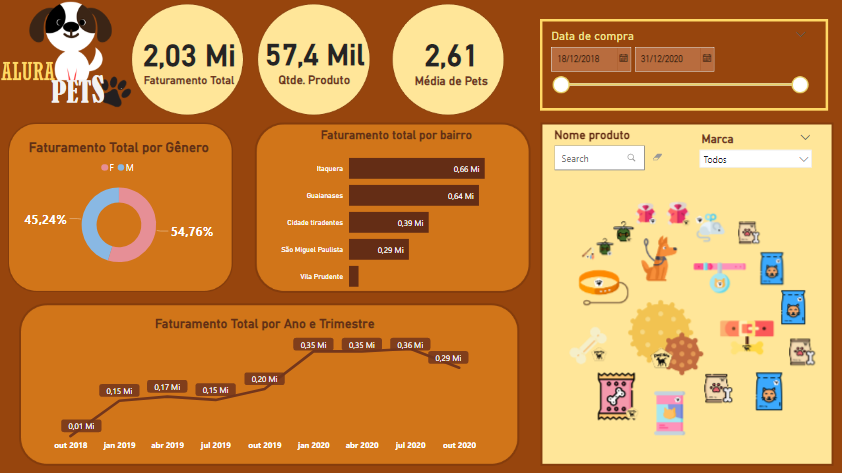

This screenshot's page, from the dashboard's own definition file:
{"tool":"powerbi","page":{"name":"Página 1","canvas":[1280,720],"ordinal":0},"visuals":[{"type":"card","fields":{"Values":["Sum(Vendas.Quantidade)"]},"box":[327.4,9.6,301.4,158.9],"z":0},{"type":"card","fields":{"Values":["Vendas.Faturamento Total"]},"box":[194.5,38.4,187.7,101.4],"z":1000},{"type":"card","fields":{"Values":["Avg(Clientes.Pets)"]},"box":[534.2,9.6,301.4,158.9],"z":2000},{"type":"donutChart","fields":{"Category":["Clientes.Gênero"],"Y":["Vendas.Faturamento Total"]},"box":[23.3,211,317.8,208.2],"z":3000},{"type":"barChart","title":"Faturamento total por bairro","fields":{"Category":["Clientes.Bairro"],"Y":["Vendas.Faturamento Total"]},"box":[421.9,194.5,361.6,263],"z":4000},{"type":"slicer","fields":{"Values":["Lista Produtos.Marca"]},"box":[1052.1,194.5,190.4,72.6],"z":5000},{"type":"slicer","fields":{"Values":["Vendas.Data de compra"]},"box":[825,39.7,409.6,151],"z":6000},{"type":"lineChart","fields":{"Y":["Vendas.Faturamento Total"],"Category":["Vendas.Data de compra.Variation.Hierarquia de datas.Ano","Vendas.Data de compra.Variation.Hierarquia de datas.Trimestre","Vendas.Data de compra.Variation.Hierarquia de datas.Mês","Vendas.Data de compra.Variation.Hierarquia de datas.Dia"]},"box":[76.7,478.1,650.7,213.7],"z":7000},{"type":"ImageGrid_FC5183B9_926C_45E0_B5F7_0CE9EAF1DA9B","fields":{"ImageURL":["Lista Produtos.Url img"]},"box":[823.3,267.1,456.2,431.5],"z":8000},{"type":"textFilter25A4896A83E0487089E2B90C9AE57C8A","fields":{"field":["Lista Produtos.Nome produto"]},"box":[835.6,194.5,184.9,72.6],"z":9000}]}

Visuals, with their boxes in screenshot pixels (x1, y1, x2, y2), scaled from the page's 1280x720 canvas onto the 842x473 screenshot:
card - Sum(Vendas.Quantidade): [215, 6, 414, 111]
card - Vendas.Faturamento Total: [128, 25, 251, 92]
card - Avg(Clientes.Pets): [351, 6, 550, 111]
donutChart - Clientes.Gênero x Vendas.Faturamento Total: [15, 139, 224, 275]
"Faturamento total por bairro" barChart: [278, 128, 515, 301]
slicer - Lista Produtos.Marca: [692, 128, 817, 175]
slicer - Vendas.Data de compra: [543, 26, 812, 125]
lineChart - Vendas.Faturamento Total x Vendas.Data de compra.Variation.Hierarquia de datas.Ano: [50, 314, 478, 454]
ImageGrid_FC5183B9_926C_45E0_B5F7_0CE9EAF1DA9B - Lista Produtos.Url img: [542, 175, 841, 459]
textFilter25A4896A83E0487089E2B90C9AE57C8A - Lista Produtos.Nome produto: [550, 128, 671, 175]
